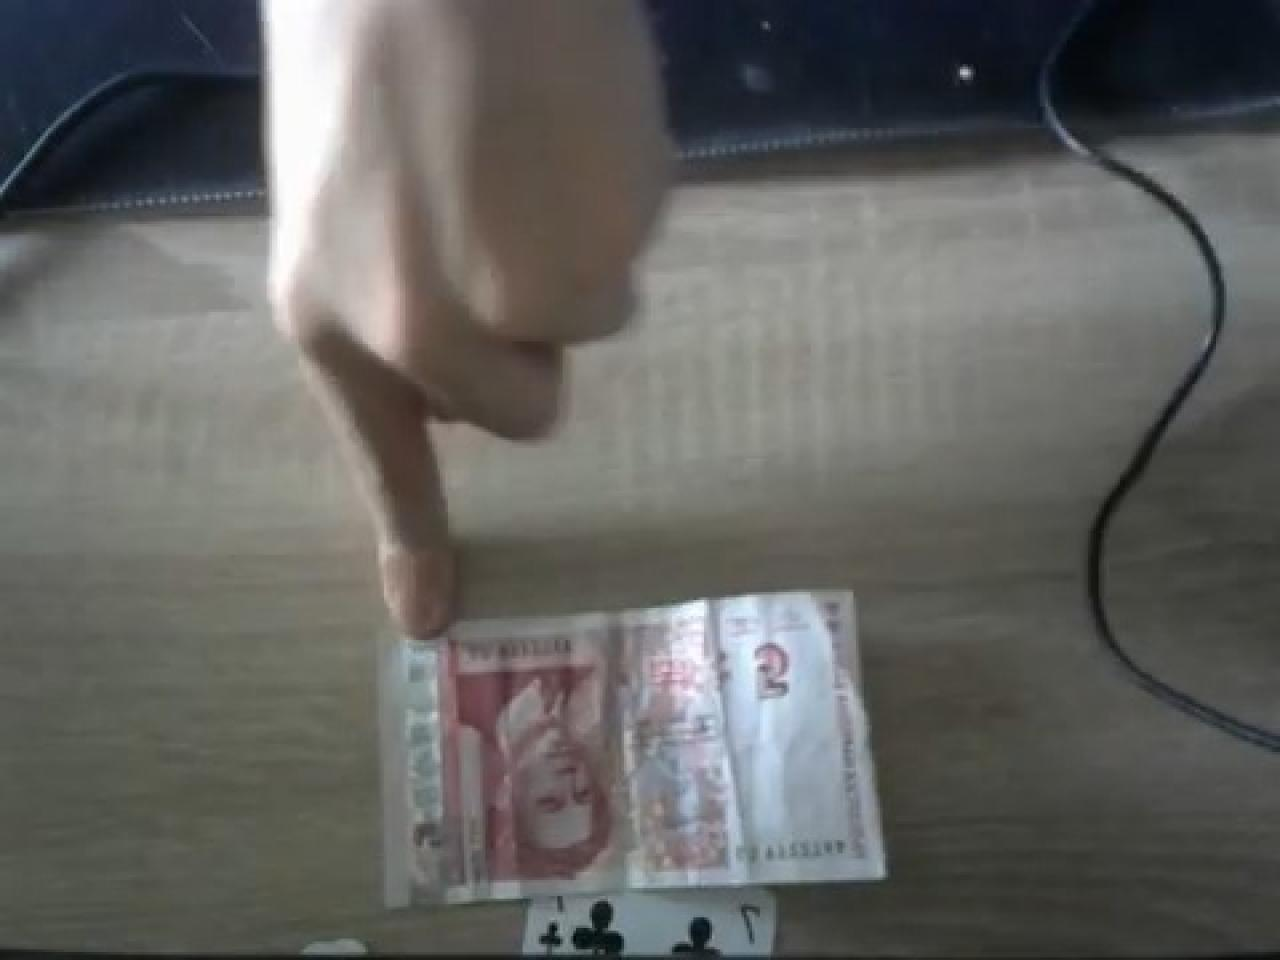5leva: (408, 600, 821, 898)
